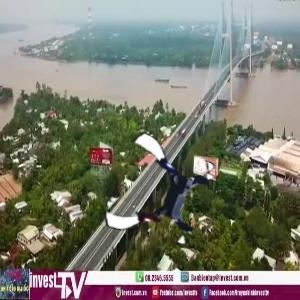drone: (107, 142, 213, 248)
